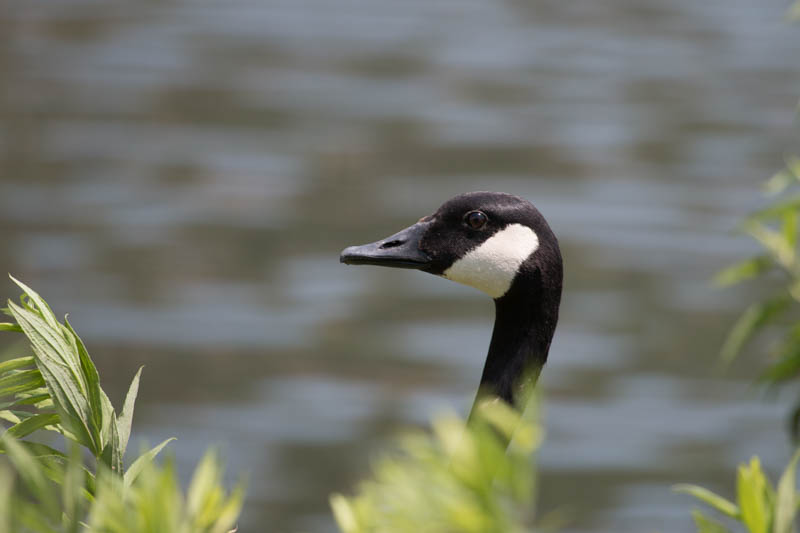goose-head: (341, 191, 563, 300)
